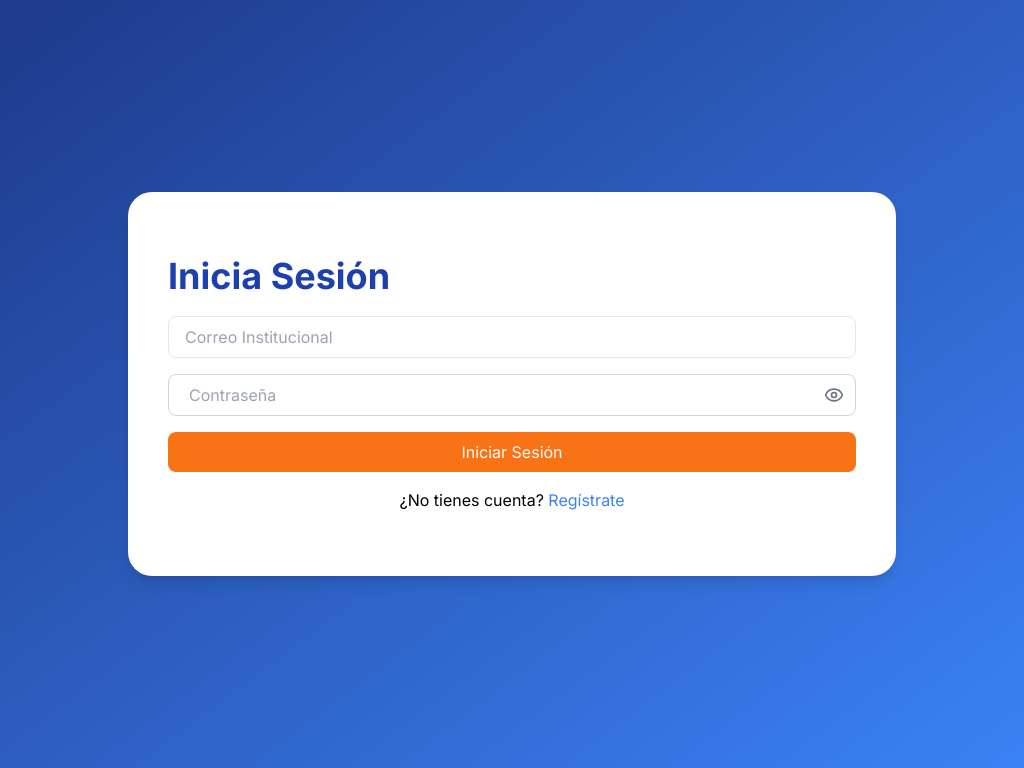
Test: Login básico › muestra error si los campos están vacíos
Step 1. Click the button "Iniciar Sesión" → (512, 452), box [168,432,856,472]
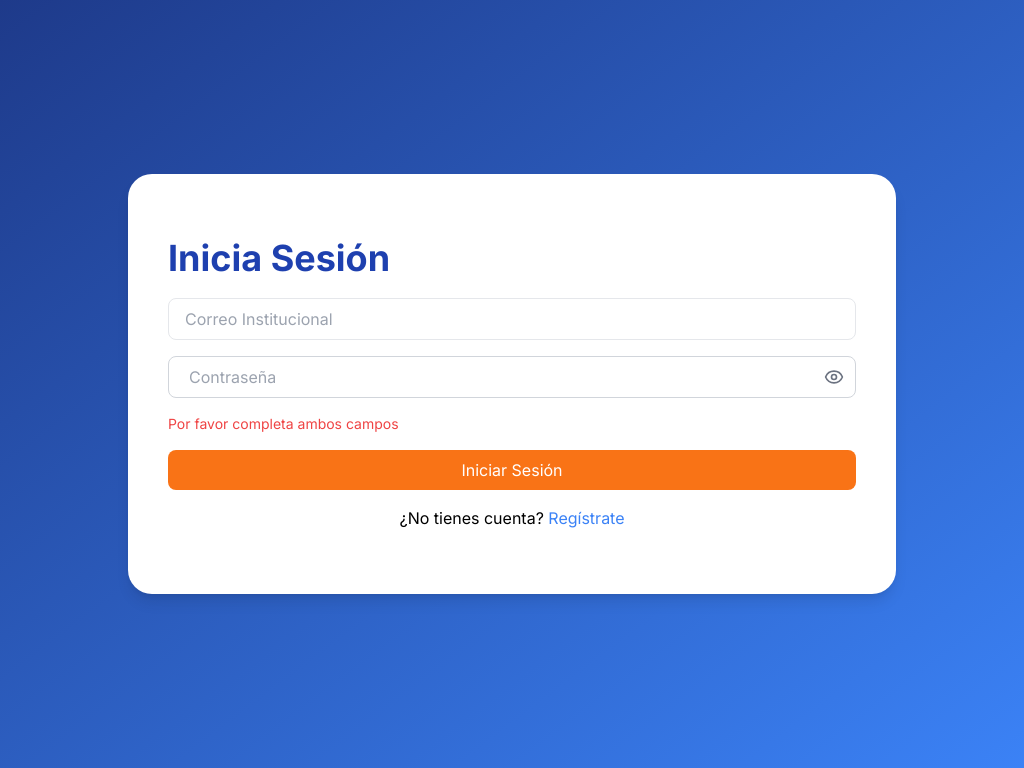
Result: the text "Por favor completa ambos campos" is shown at [168,415,399,432]
